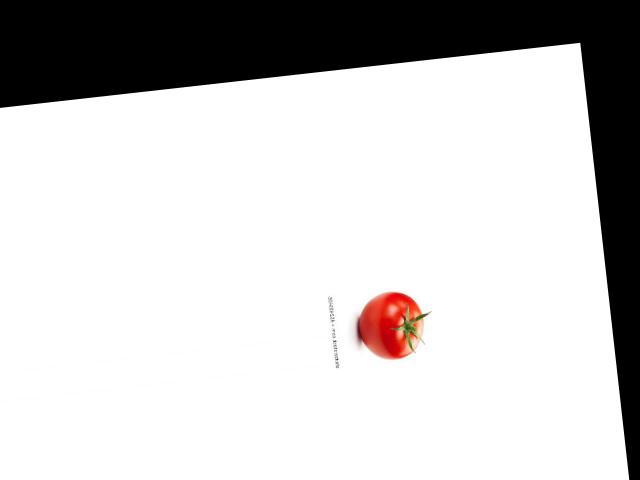tomato: (355, 289, 427, 361)
